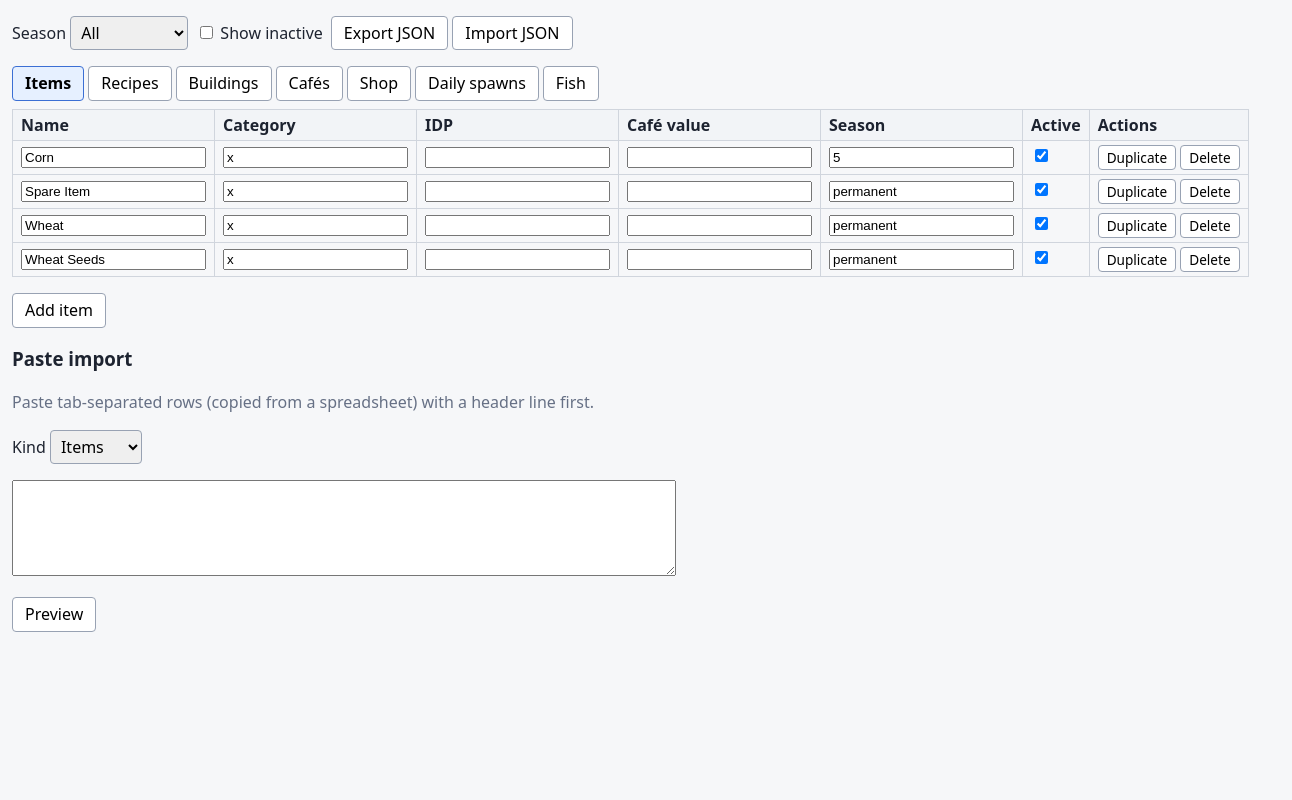
DataTab › parses a typed duration and rejects junk
Click the tab "Recipes": (130,84) [88,66,172,101]
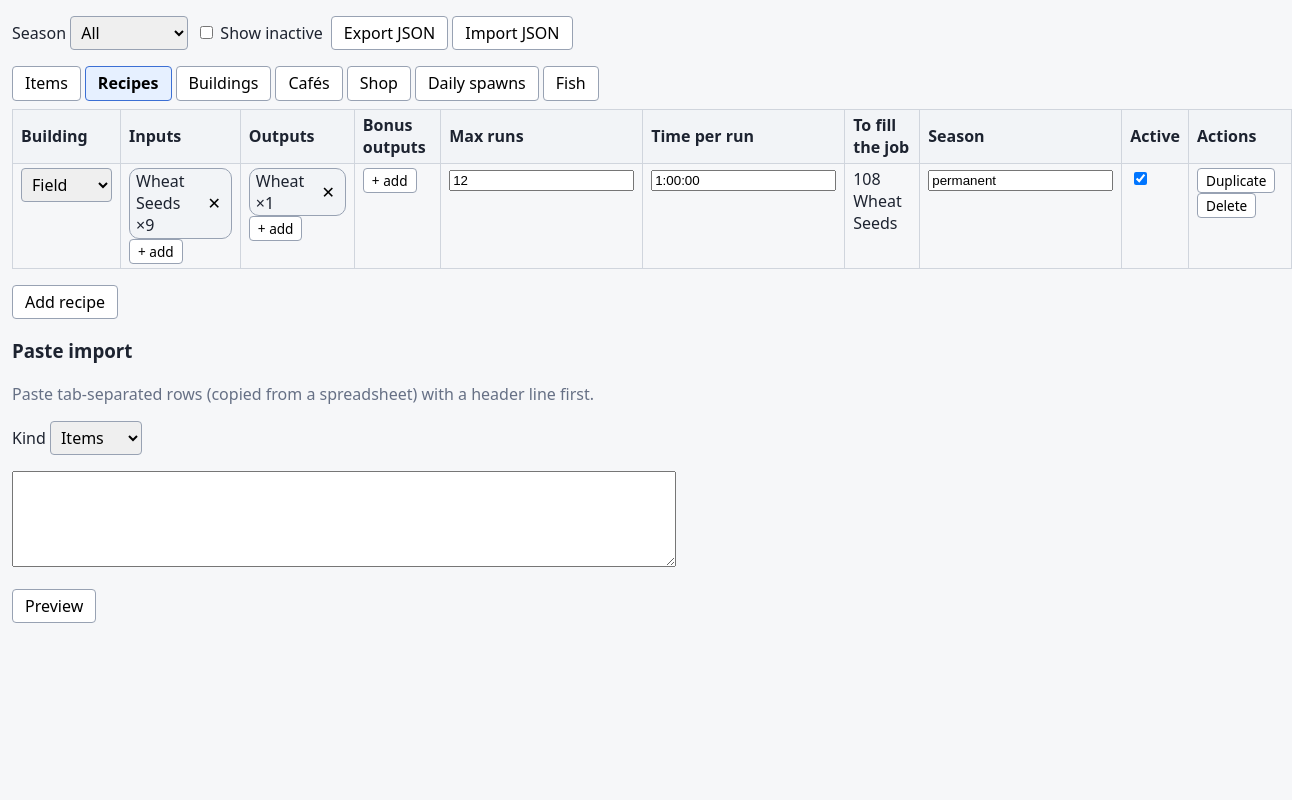
Replace the text in the field named "Time per run Wheat @ Field" with "1h 30m": (744,180) [651,170,836,191]
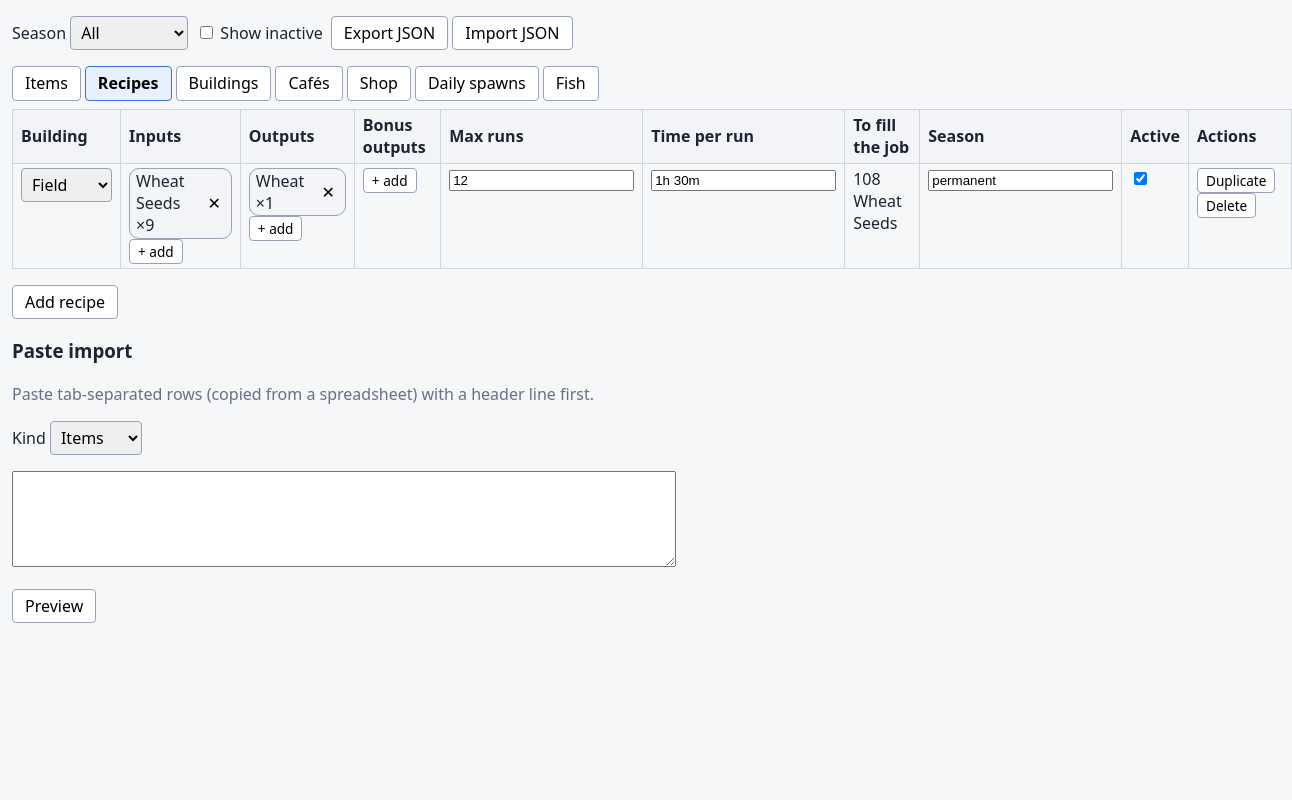
Leave the field named "Time per run Wheat @ Field", box [651,170,836,191]
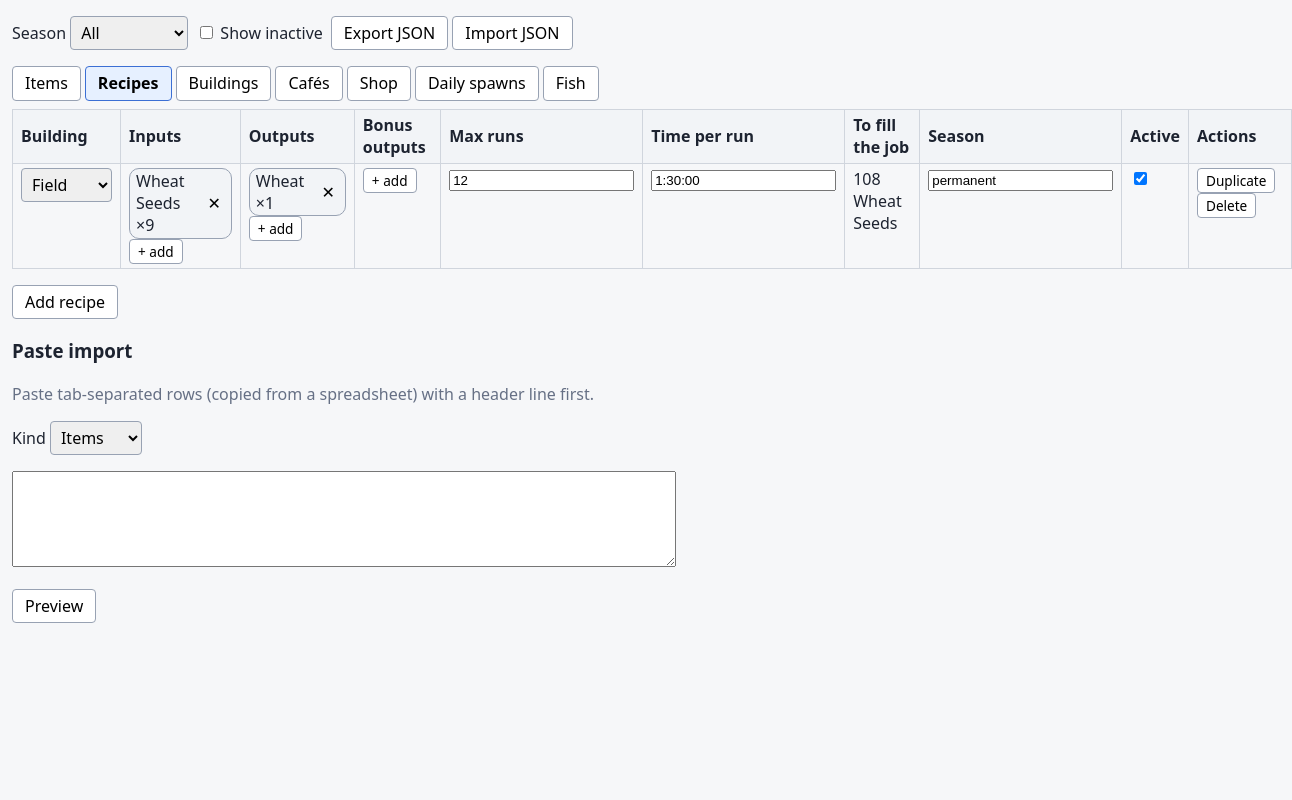
Now the field named "Time per run Wheat @ Field" holds "1:30:00"
Replace the text in the field named "Time per run Wheat @ Field" with "abc": (744,180) [651,170,836,191]
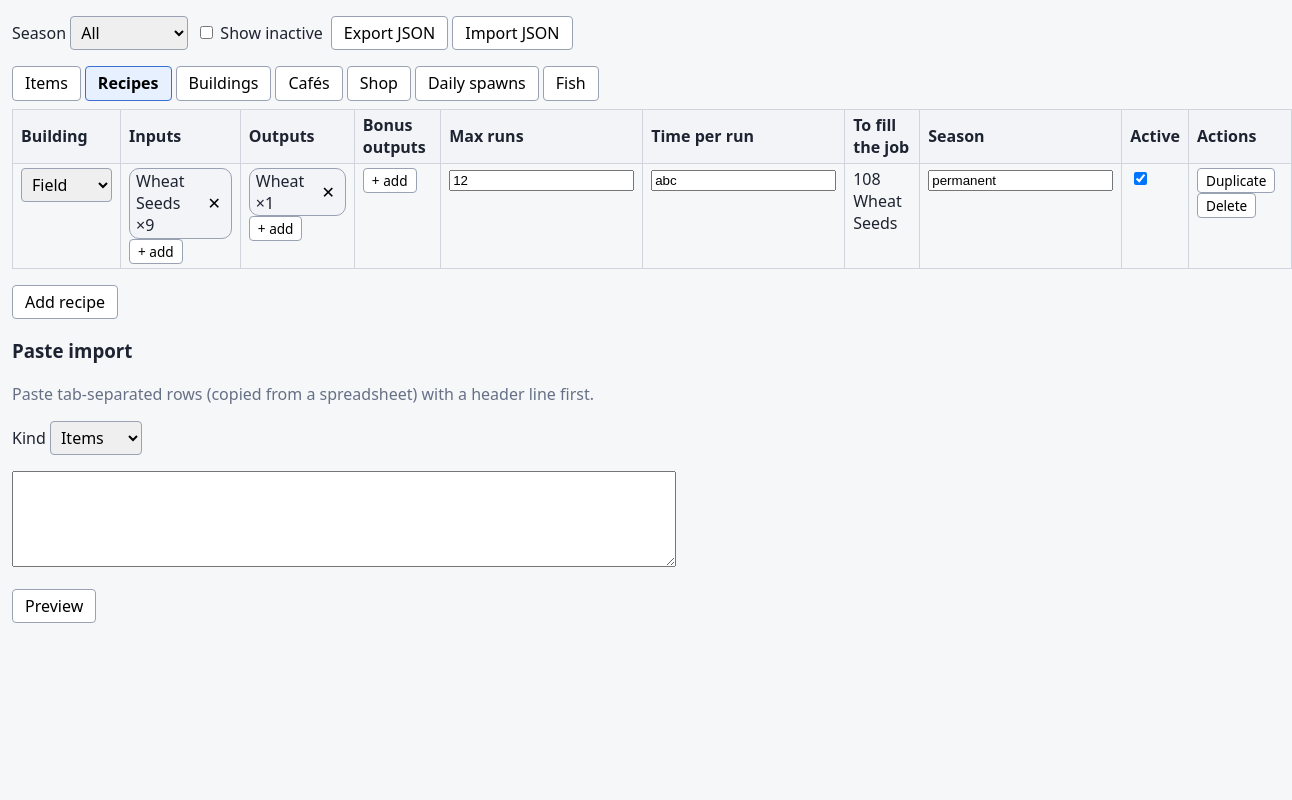
Leave the field named "Time per run Wheat @ Field", box [651,170,836,191]
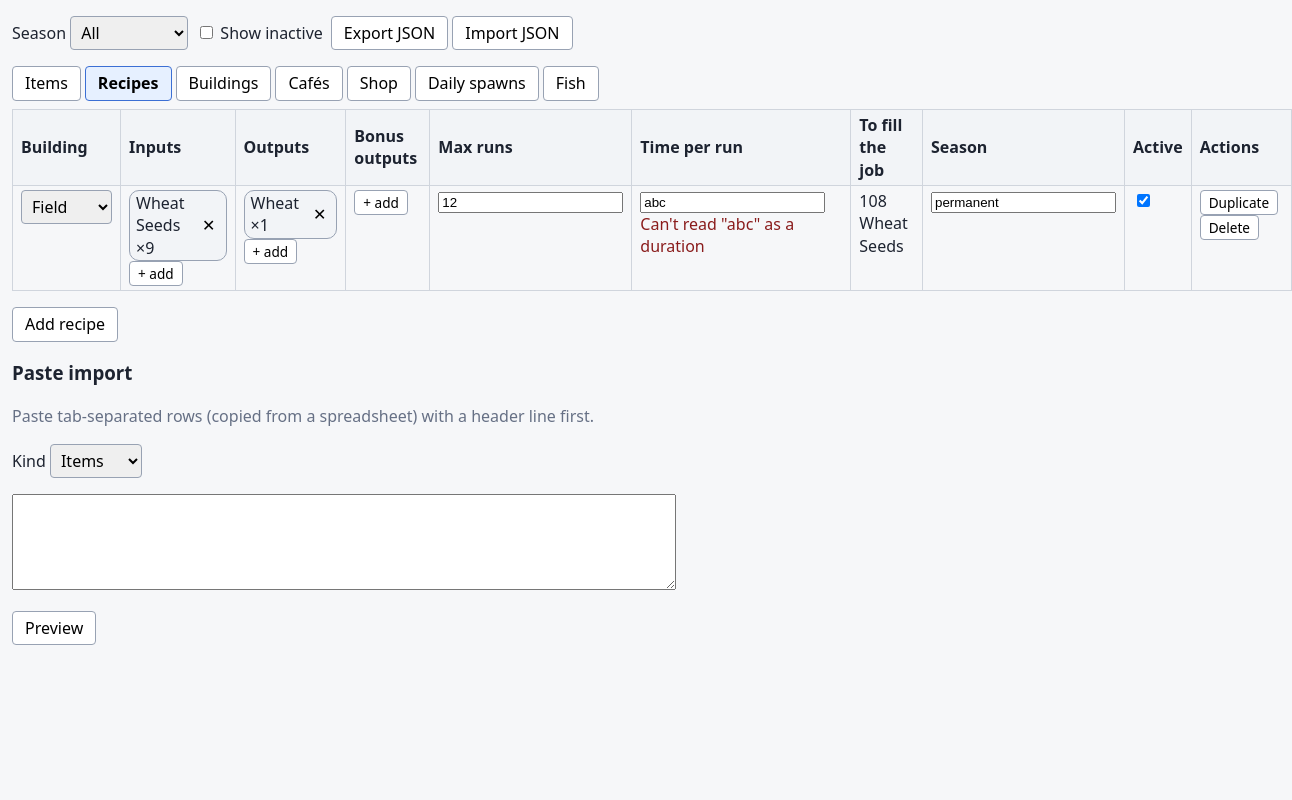
Now the message "Can't read \"abc\" as a duration" is shown, box [640,213,794,257]
